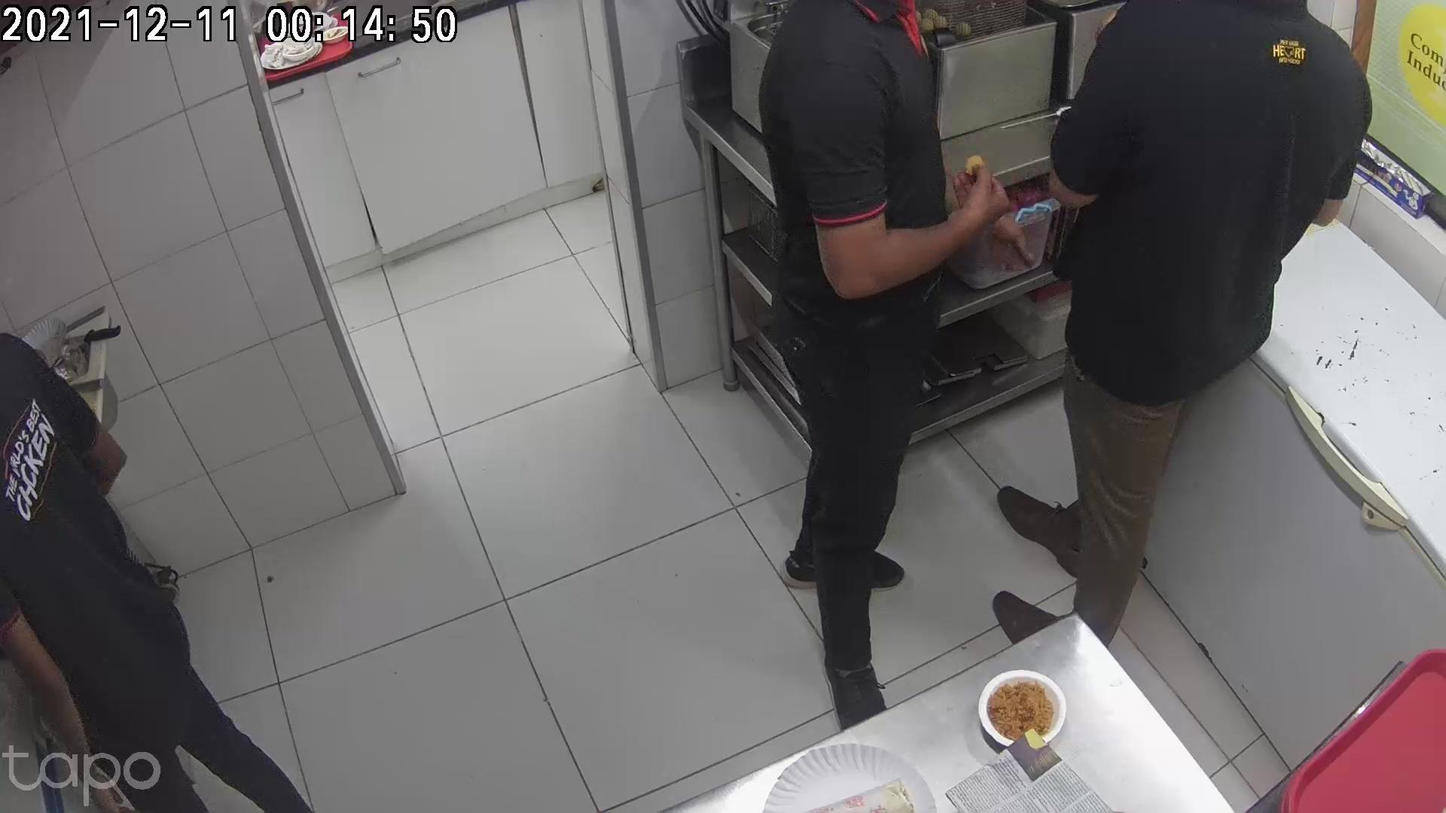no_gloves: (559, 325, 602, 452)
